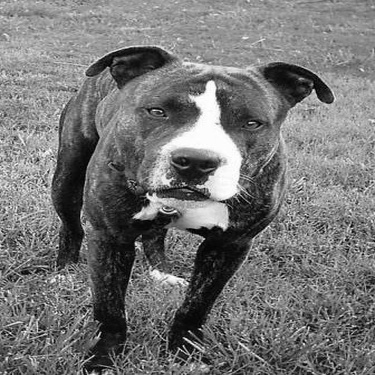dog: (35, 24, 342, 371)
